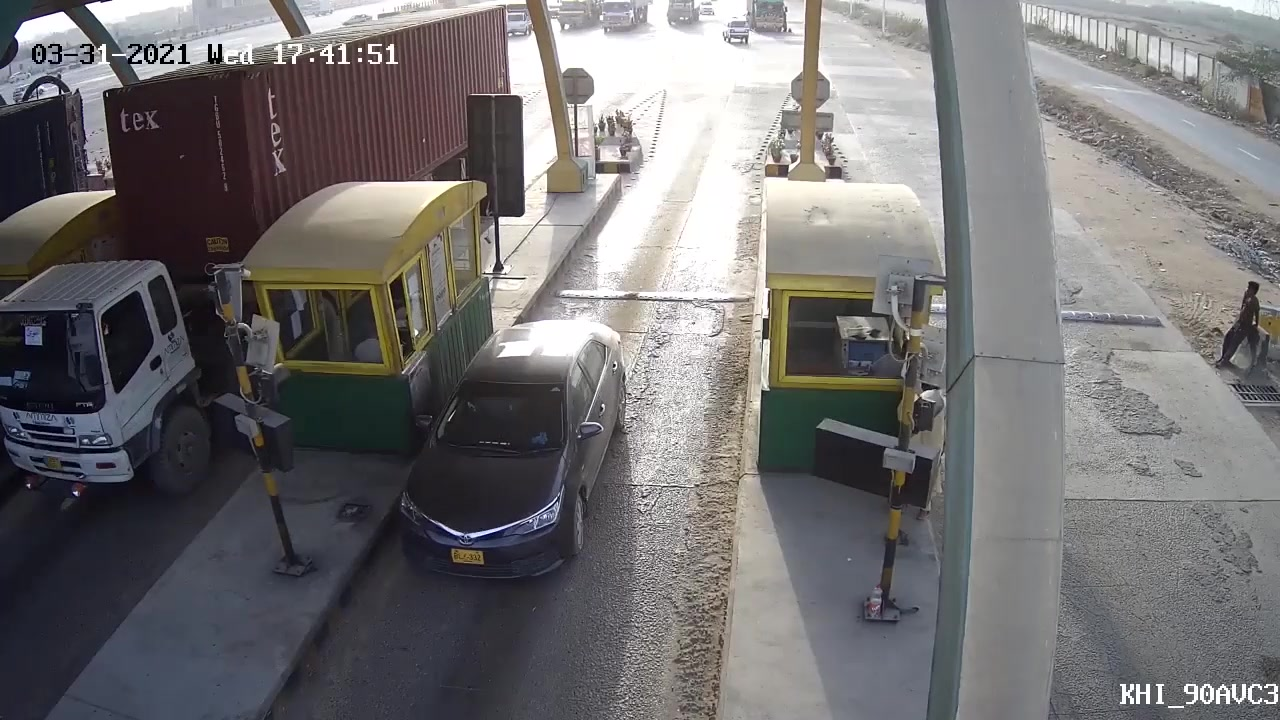F1: (394, 317, 627, 582)
